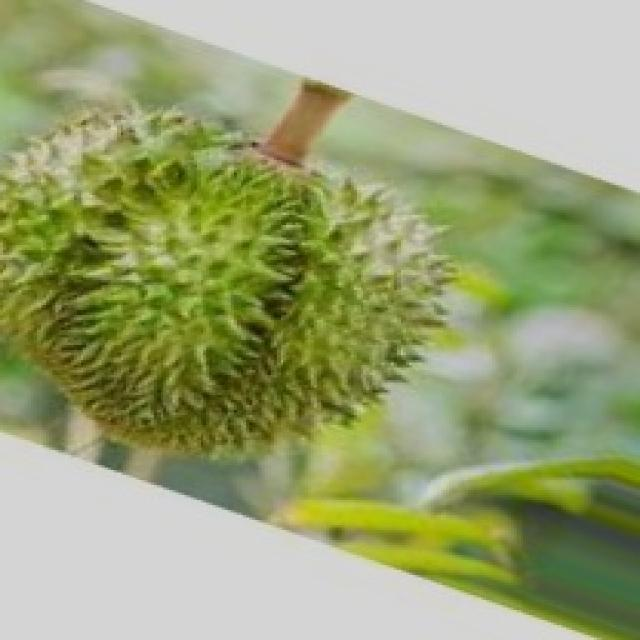fruit: (0, 105, 382, 523)
